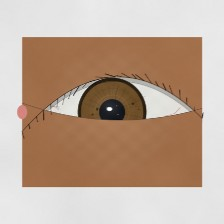pinguecula_lesion: (39, 102, 83, 138)
